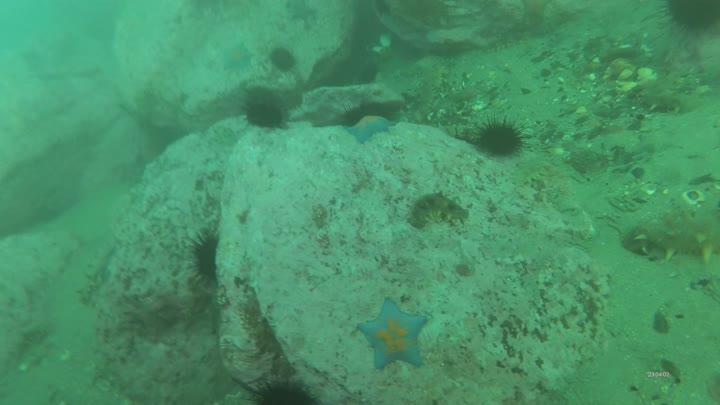echinus: (471, 113, 533, 158), (244, 375, 321, 405), (187, 229, 221, 291), (658, 1, 720, 33), (243, 100, 287, 131), (341, 102, 392, 128), (270, 47, 298, 74)
holothurian: (624, 209, 720, 264), (638, 78, 705, 116), (407, 192, 472, 230), (510, 160, 548, 190)
starfish: (355, 297, 430, 371), (347, 114, 400, 146), (216, 42, 255, 74)
